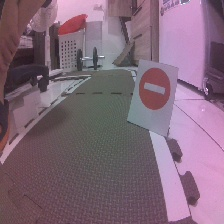blocked: (138, 63, 171, 115)
